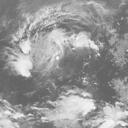cyclone: (25, 31, 75, 74)
